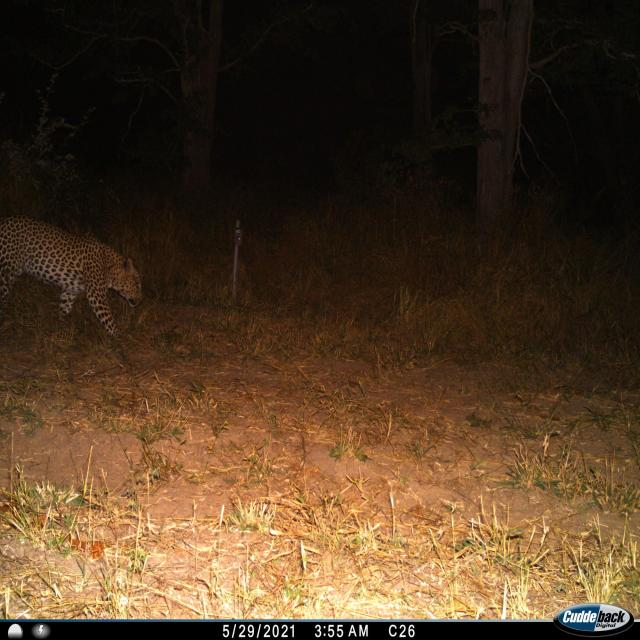Leopard: (0, 200, 140, 360)
